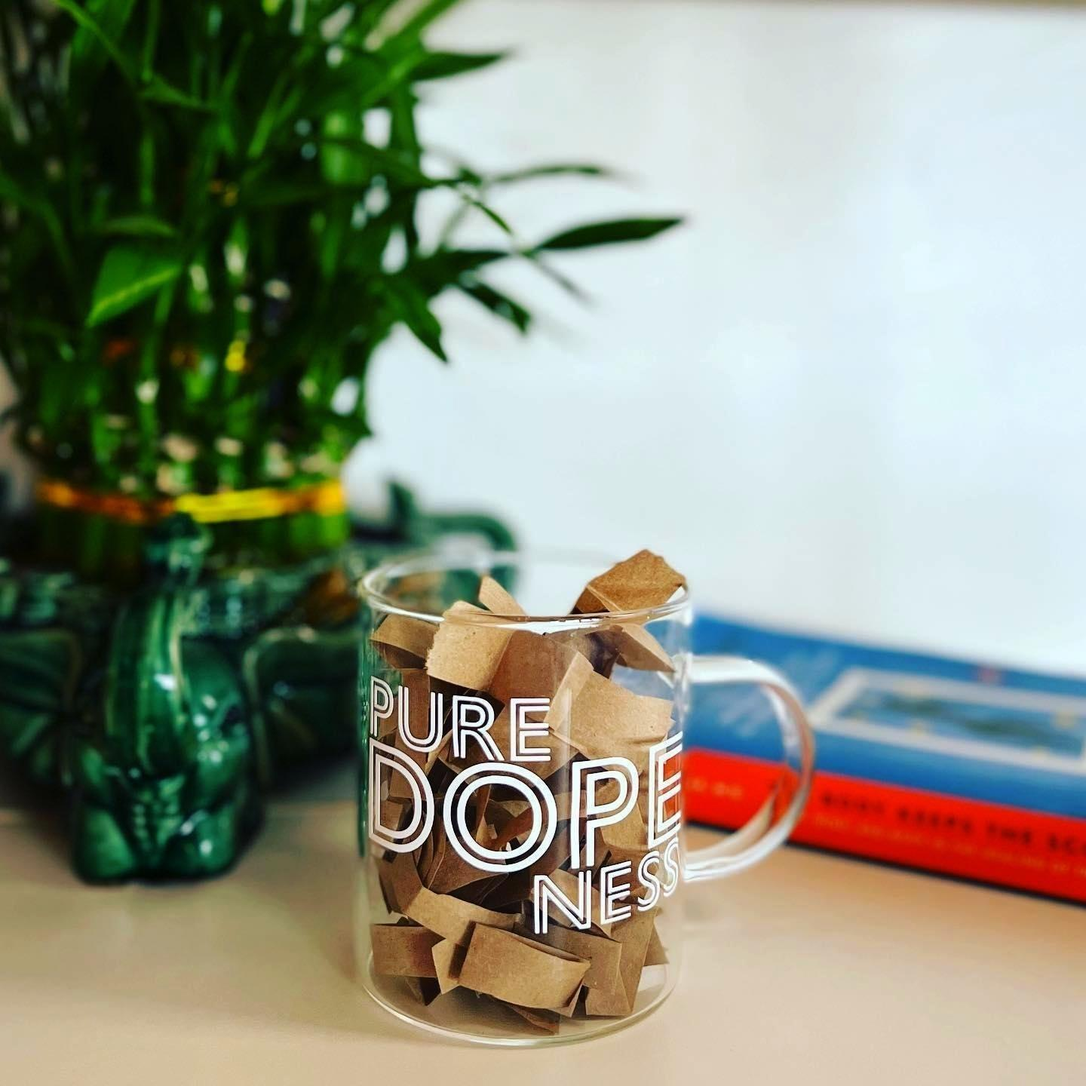glass-mug: (339, 530, 823, 1041)
